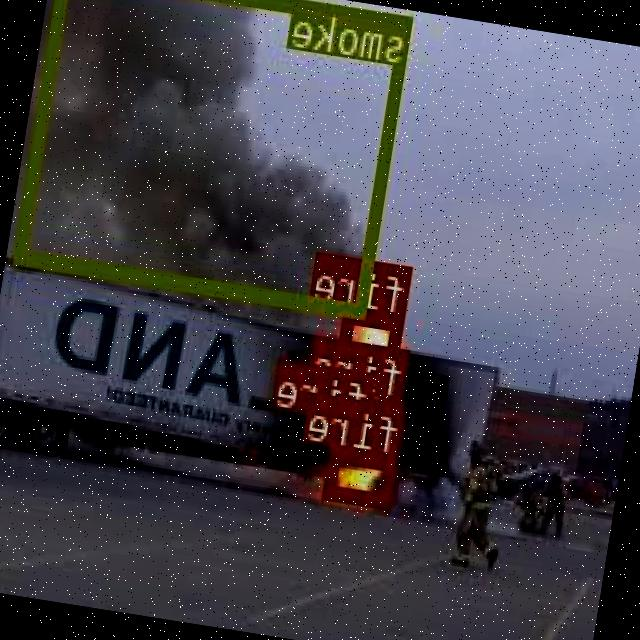fire: (336, 306, 406, 393), (327, 444, 400, 506), (380, 396, 404, 428), (358, 420, 369, 434)
smoke: (17, 0, 416, 317)
